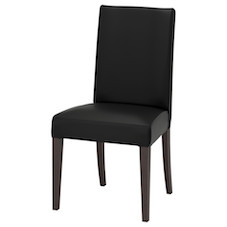chair: (49, 2, 179, 219)
